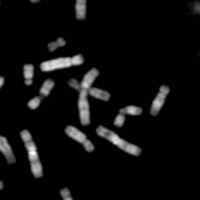chromosome: (96, 124, 142, 158), (78, 68, 99, 126), (20, 129, 42, 177), (68, 77, 110, 102), (28, 80, 55, 110), (64, 125, 93, 152), (40, 55, 83, 71), (113, 106, 142, 127), (0, 125, 15, 164), (151, 84, 168, 116), (72, 0, 87, 20), (23, 62, 34, 85), (48, 37, 66, 50), (56, 187, 73, 200), (0, 75, 4, 116), (191, 0, 200, 16), (1, 0, 41, 3), (0, 180, 1, 192)
